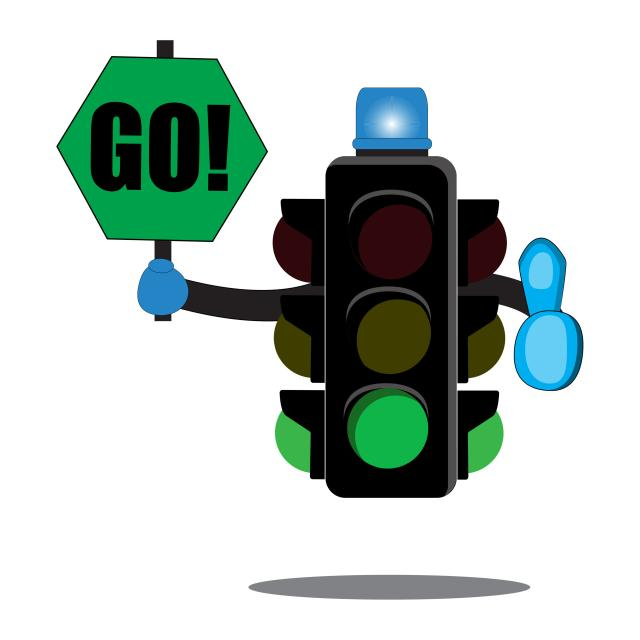green: (318, 360, 486, 494)
